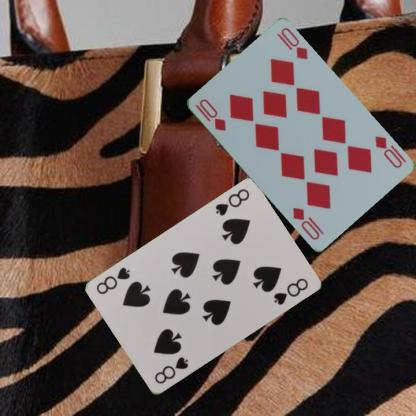10d: (372, 133, 407, 170), (196, 96, 227, 133)
8s: (212, 186, 251, 218), (152, 354, 190, 386)
